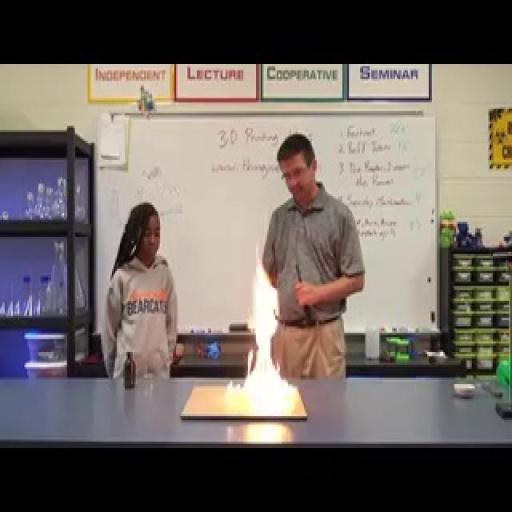smoke: (234, 245, 297, 412)
